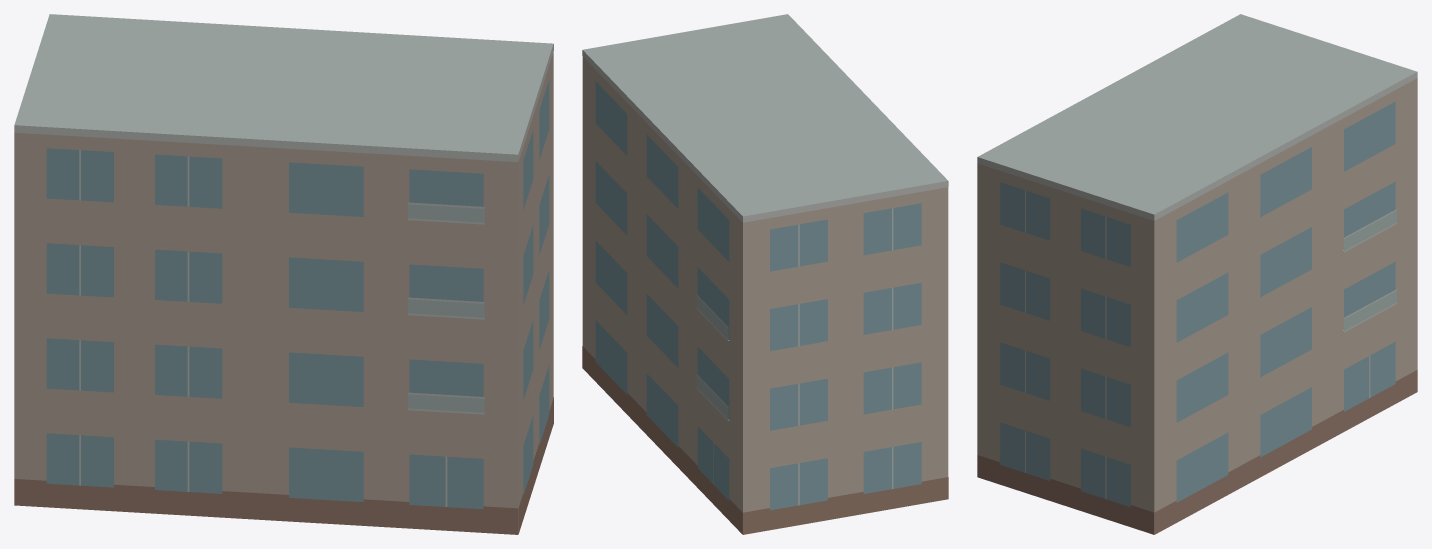
Rendered from survey-upis-32621429.glb.
3 views of the same model, side by side, from view 1: azimuth 30°, elevation 25°; view 2: azimuth 150°, elevation 25°; view 3: azimuth 270°, elevation 25° (orthographic). The views are drawn at different scales.
Parts seen in each view (by area): view 1: survey-upis-32621429.tmp; view 2: survey-upis-32621429.tmp; view 3: survey-upis-32621429.tmp.
Boxes of the visible parts, x1,y1,x2,y2 form: survey-upis-32621429.tmp: (14, 14, 553, 534); survey-upis-32621429.tmp: (582, 14, 948, 534); survey-upis-32621429.tmp: (977, 14, 1417, 534).
Size of the model in its own units: 16.67 by 12.4 by 15.46.
